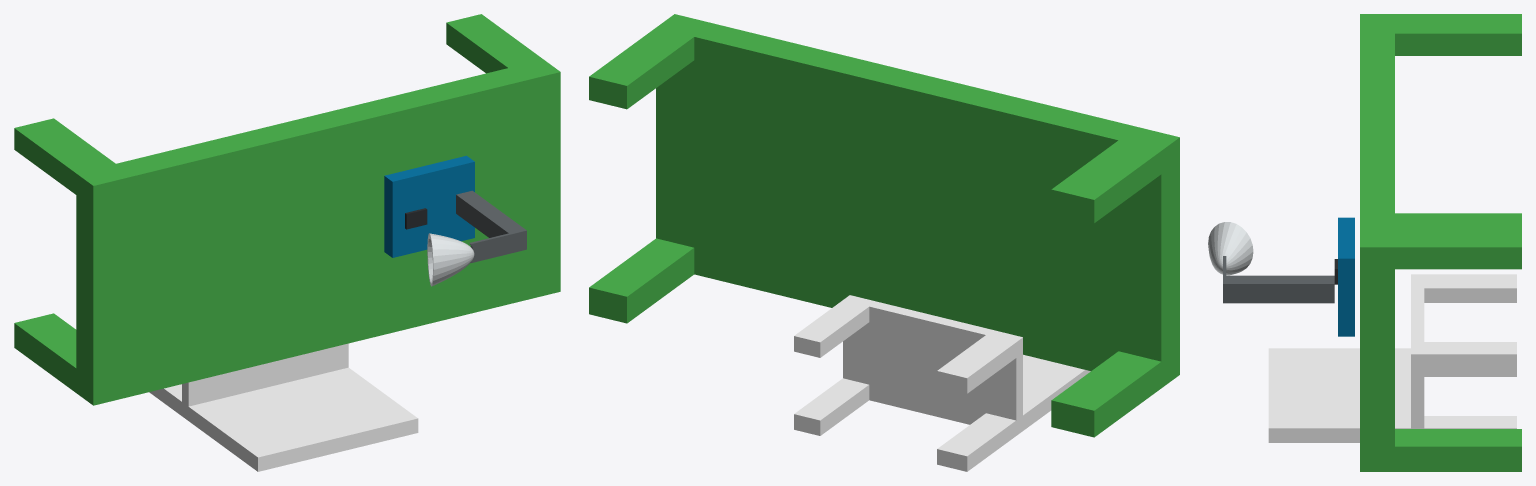
File: tinker.obj
3 views of the same model, side by side, from view 1: azimuth 30°, elevation 25°; view 2: azimuth 150°, elevation 25°; view 3: azimuth 270°, elevation 25° (orthographic). The views are drawn at different scales.
Visible parts, largest first — view 1: group_0_4634441, group_0_16448250, group_0_30377, group_0_6383466, group_0_14541540; view 2: group_0_4634441, group_0_16448250; view 3: group_0_4634441, group_0_16448250, group_0_6383466, group_0_30377, group_0_14541540.
Boxes of the visible parts, x1,y1,x2,y2 form: group_0_4634441: [14, 14, 560, 405]; group_0_16448250: [149, 343, 418, 471]; group_0_30377: [384, 155, 474, 257]; group_0_6383466: [456, 190, 526, 262]; group_0_14541540: [427, 233, 474, 286]; group_0_4634441: [589, 14, 1179, 437]; group_0_16448250: [794, 295, 1090, 471]; group_0_4634441: [1360, 14, 1521, 471]; group_0_16448250: [1268, 274, 1516, 442]; group_0_6383466: [1223, 256, 1334, 303]; group_0_30377: [1338, 217, 1354, 336]; group_0_14541540: [1208, 222, 1253, 275].
Bounding box in the file's own units: 109 × 63 × 62.
